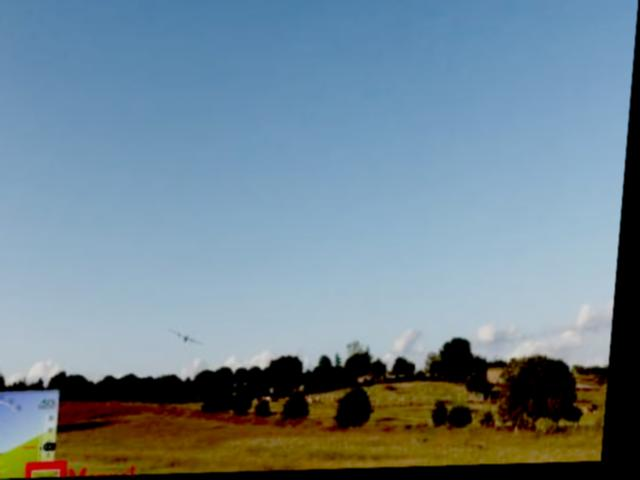uav: (173, 322, 213, 350)
